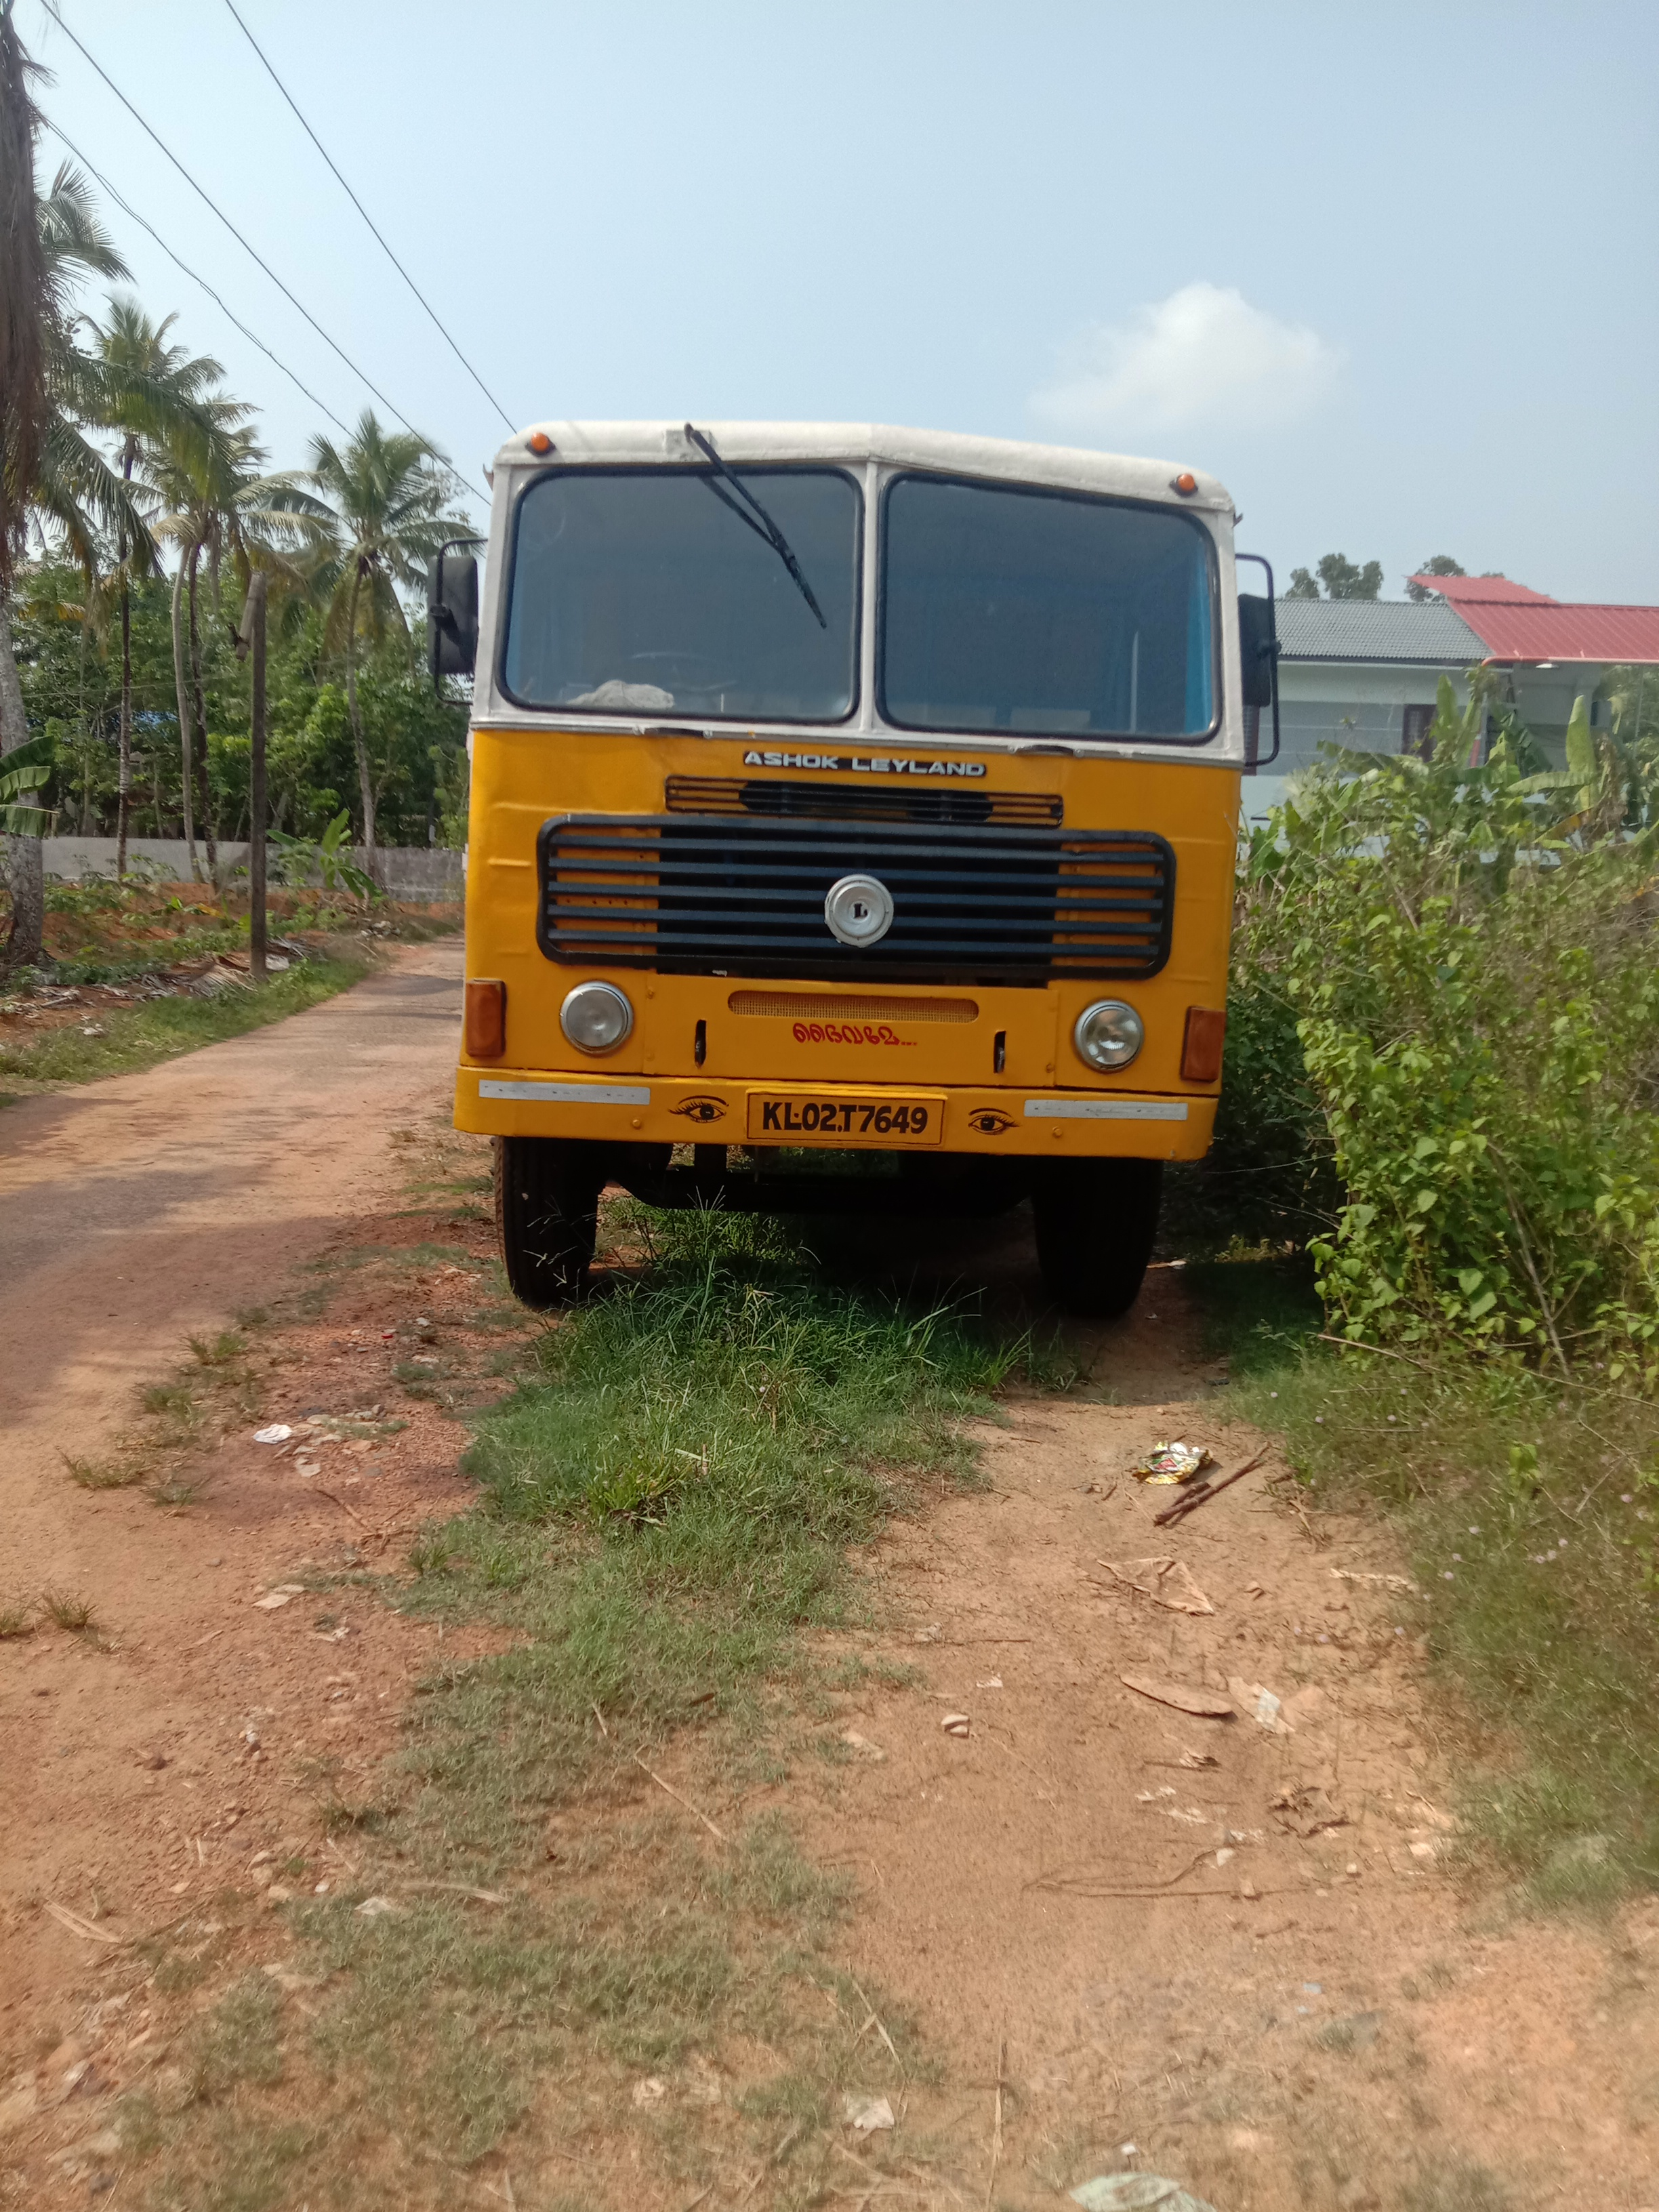truck: (422, 409, 1286, 1320)
